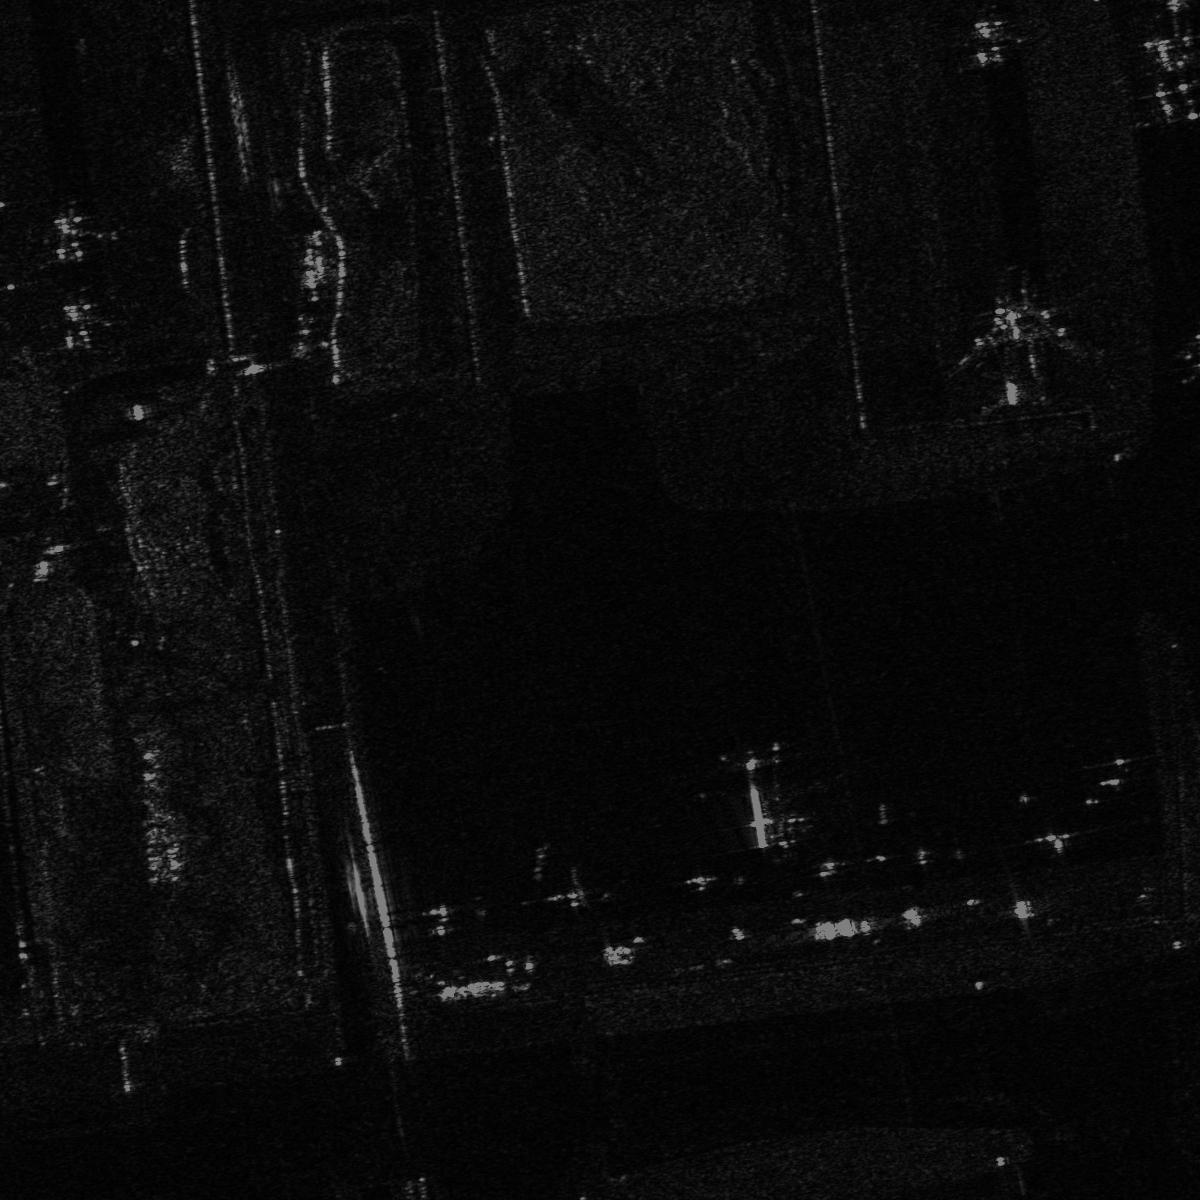A220: (949, 5, 1029, 73)
Boeing787: (693, 731, 827, 849)
other: (934, 284, 1092, 416)
